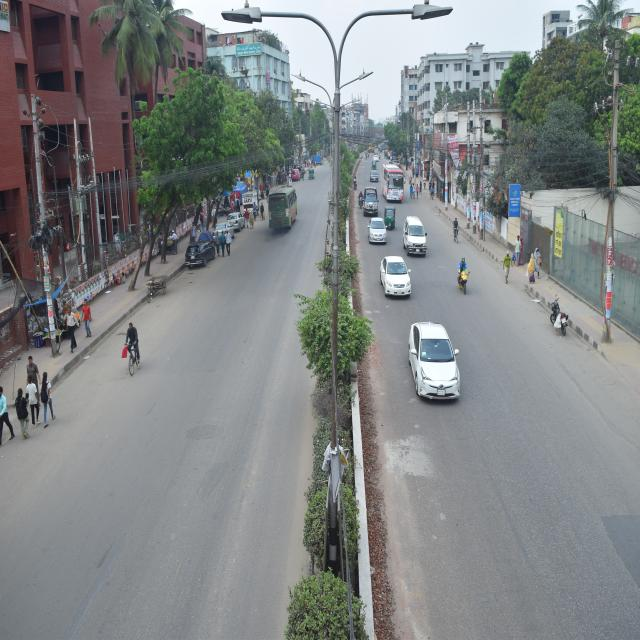bus: (265, 186, 302, 237), (384, 158, 409, 210)
car: (407, 318, 465, 408), (382, 251, 416, 301), (364, 210, 392, 247), (184, 242, 217, 272), (214, 216, 239, 242), (364, 184, 381, 217), (228, 207, 247, 231), (369, 169, 380, 185)
microbus: (397, 213, 433, 264)
motorbike: (545, 290, 573, 337), (454, 258, 474, 295), (356, 186, 365, 209)
pickup-van: (238, 190, 259, 218)
